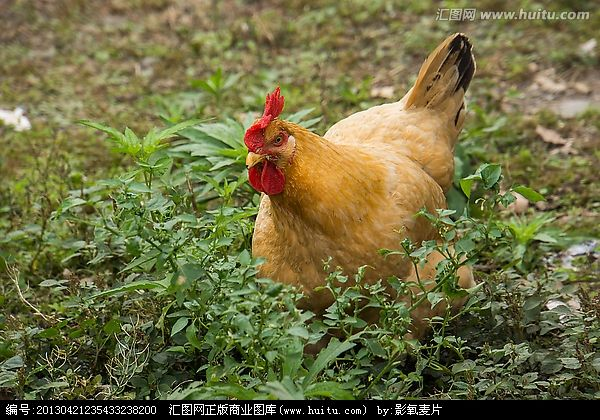chicken: (238, 38, 479, 328)
